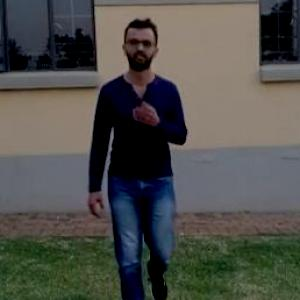follow: (105, 22, 188, 292)
